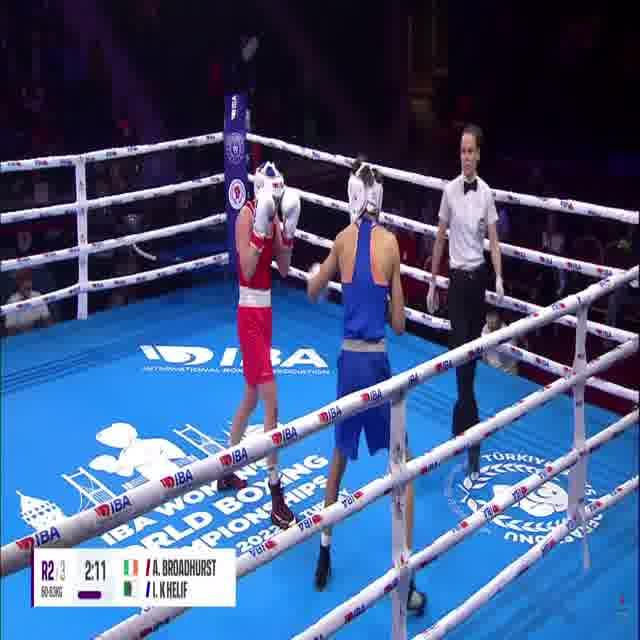blue-player: (303, 149, 432, 617)
red-player: (212, 159, 306, 530)
referee: (426, 120, 507, 481)
